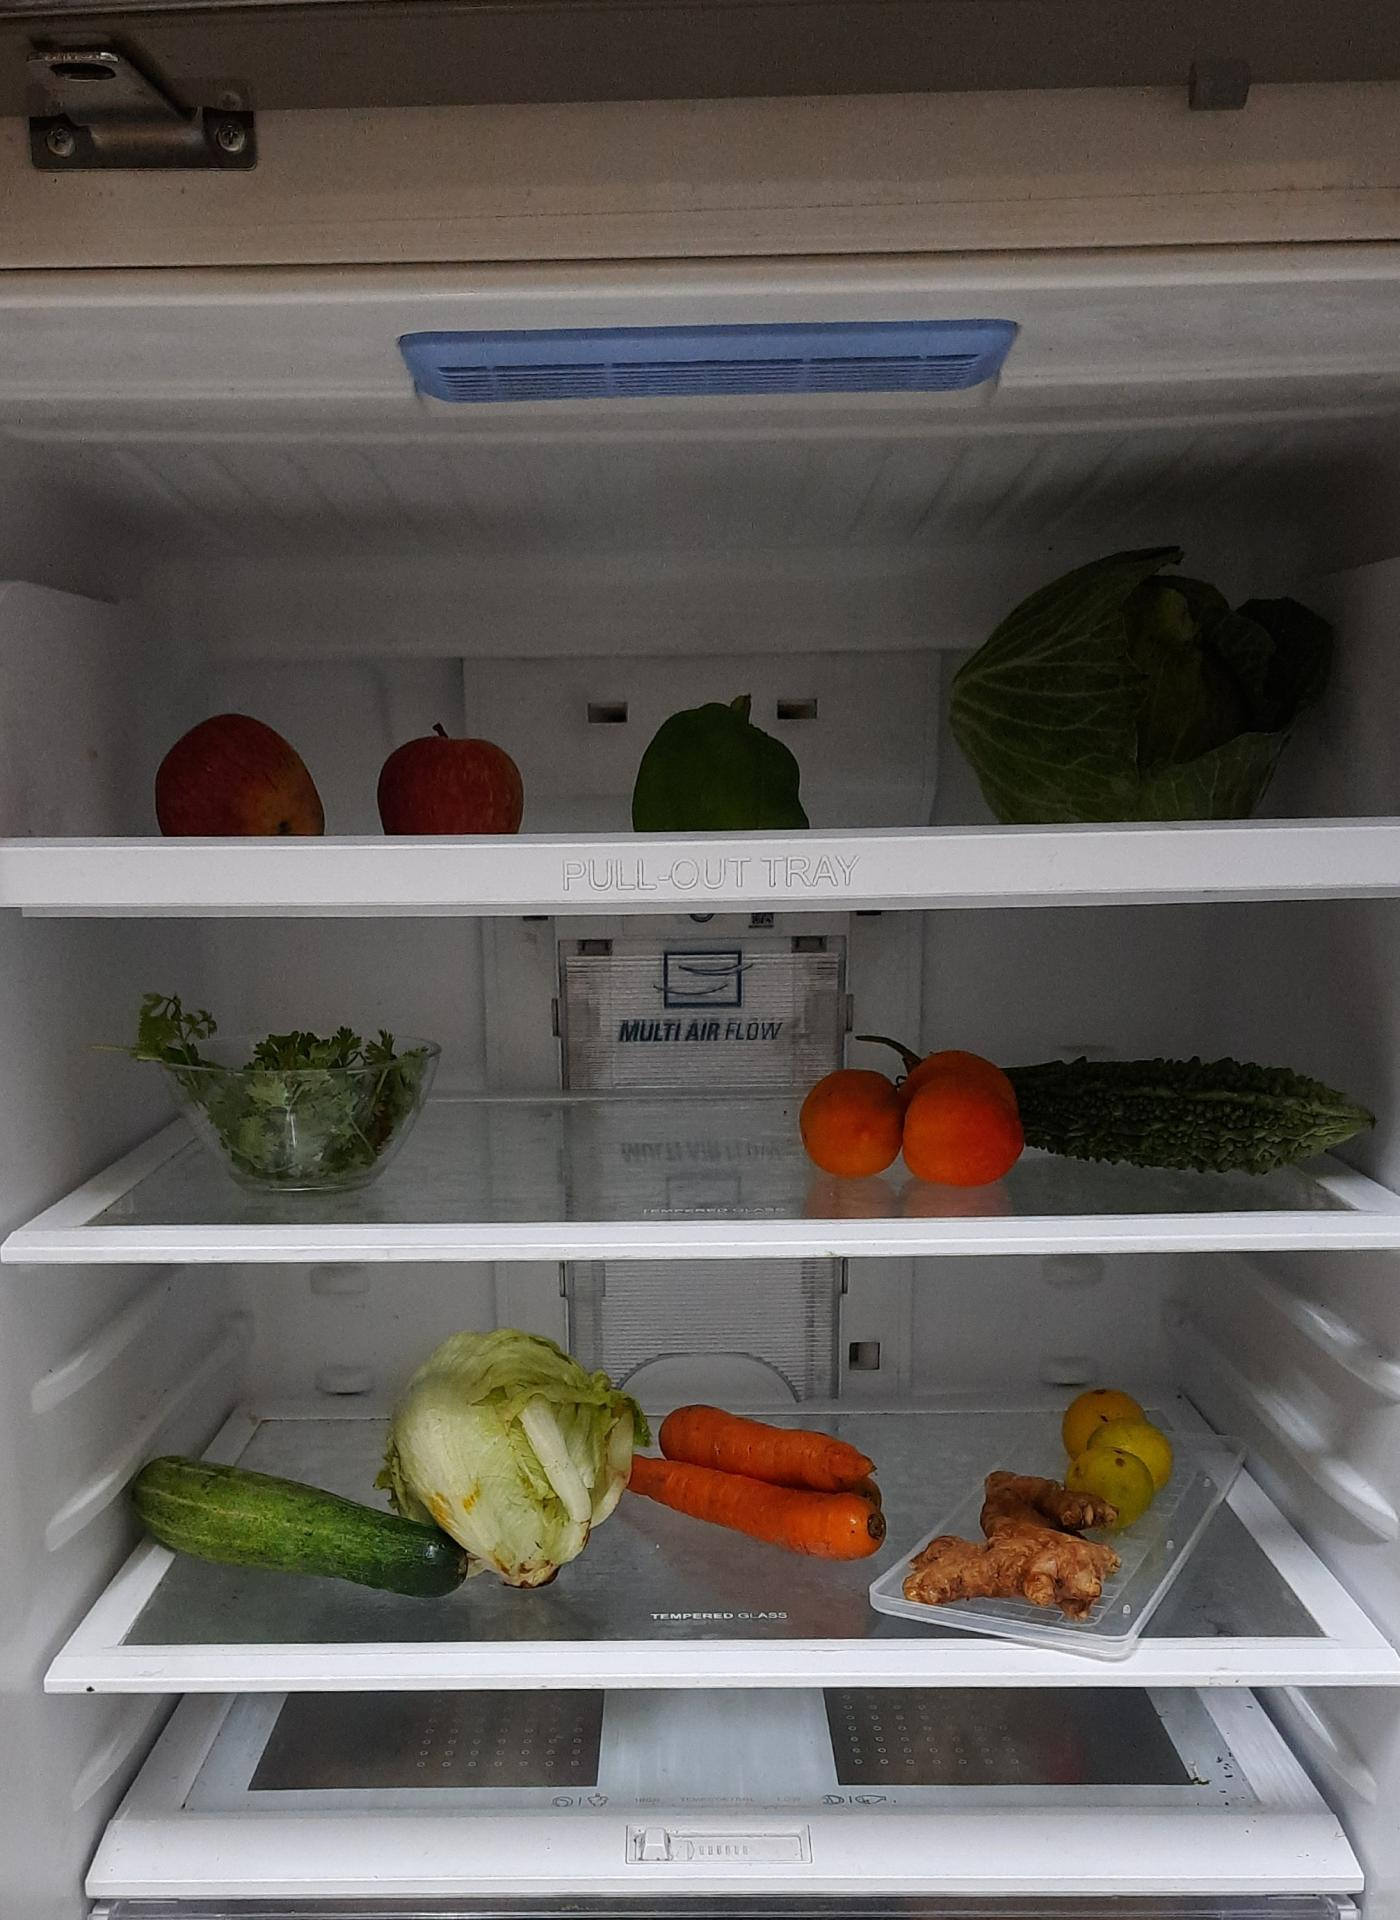apple: (155, 713, 331, 839), (383, 727, 528, 836)
bitter gourd: (1006, 1051, 1384, 1164)
cabbage: (957, 549, 1336, 824)
capsicum: (626, 695, 811, 830)
carrots: (635, 1409, 895, 1559)
coriander: (143, 996, 435, 1188)
cucumber: (133, 1452, 464, 1605)
ginger: (898, 1470, 1121, 1617)
lemon: (1065, 1385, 1173, 1522)
lettuce: (379, 1330, 637, 1580)
tomato: (799, 1049, 1023, 1185)
